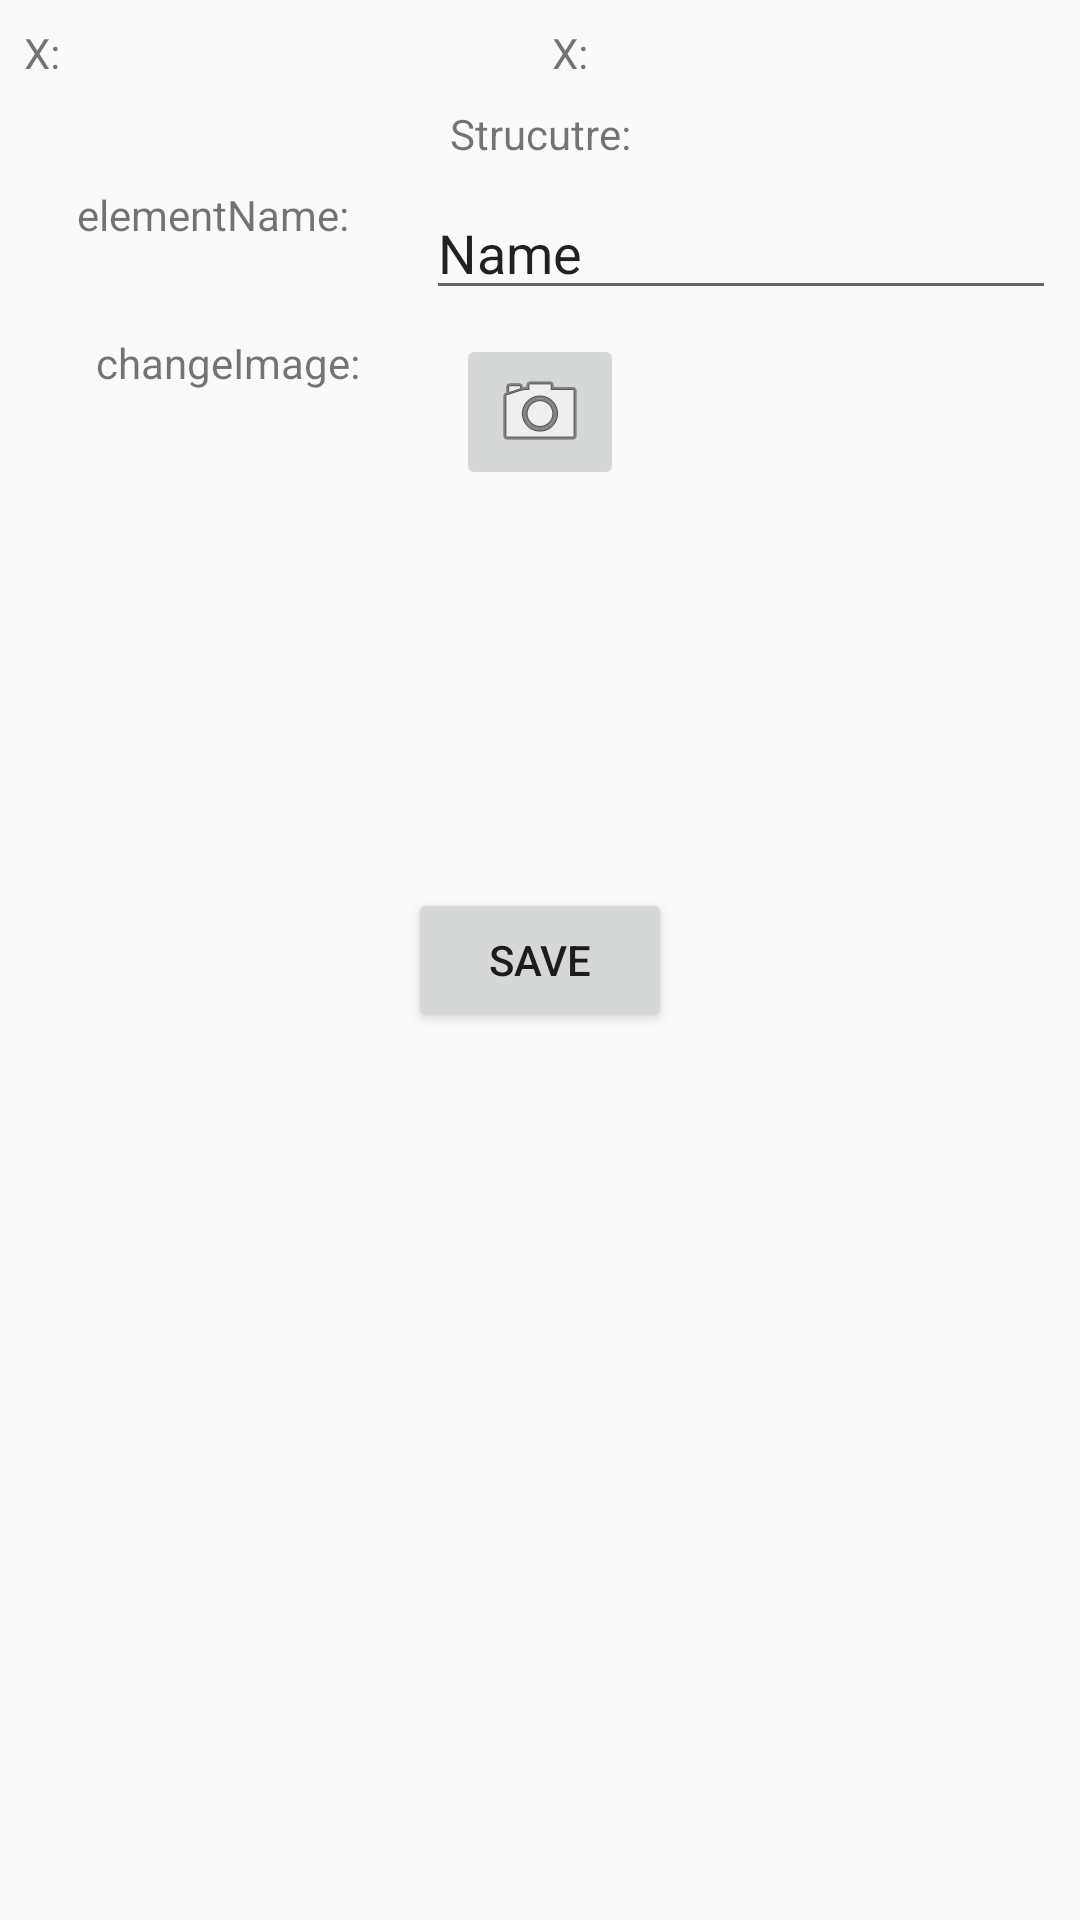

Where icons sit on this 1080×1920 app screen, as box=[x1, y1, x2, y2]:
camera: box=[468, 352, 612, 472]
